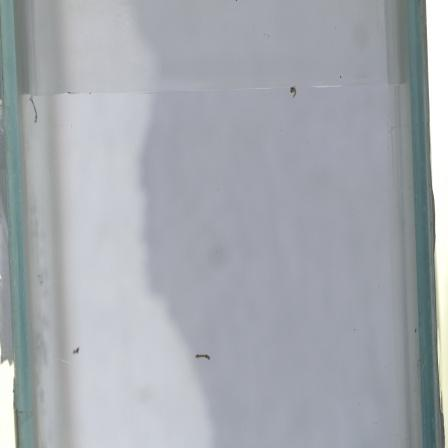Jentik-Nyamuk: (26, 94, 44, 127), (190, 348, 214, 365), (286, 83, 303, 100)
